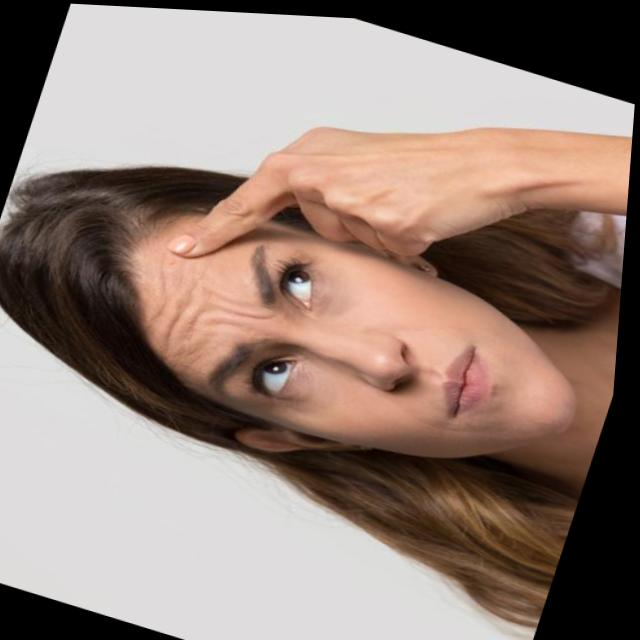Wrinkles: (187, 283, 283, 339), (168, 255, 202, 349), (150, 247, 175, 325)
